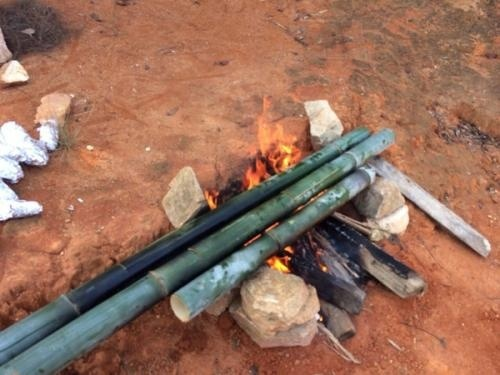fire: (240, 99, 306, 188), (267, 246, 294, 273)
